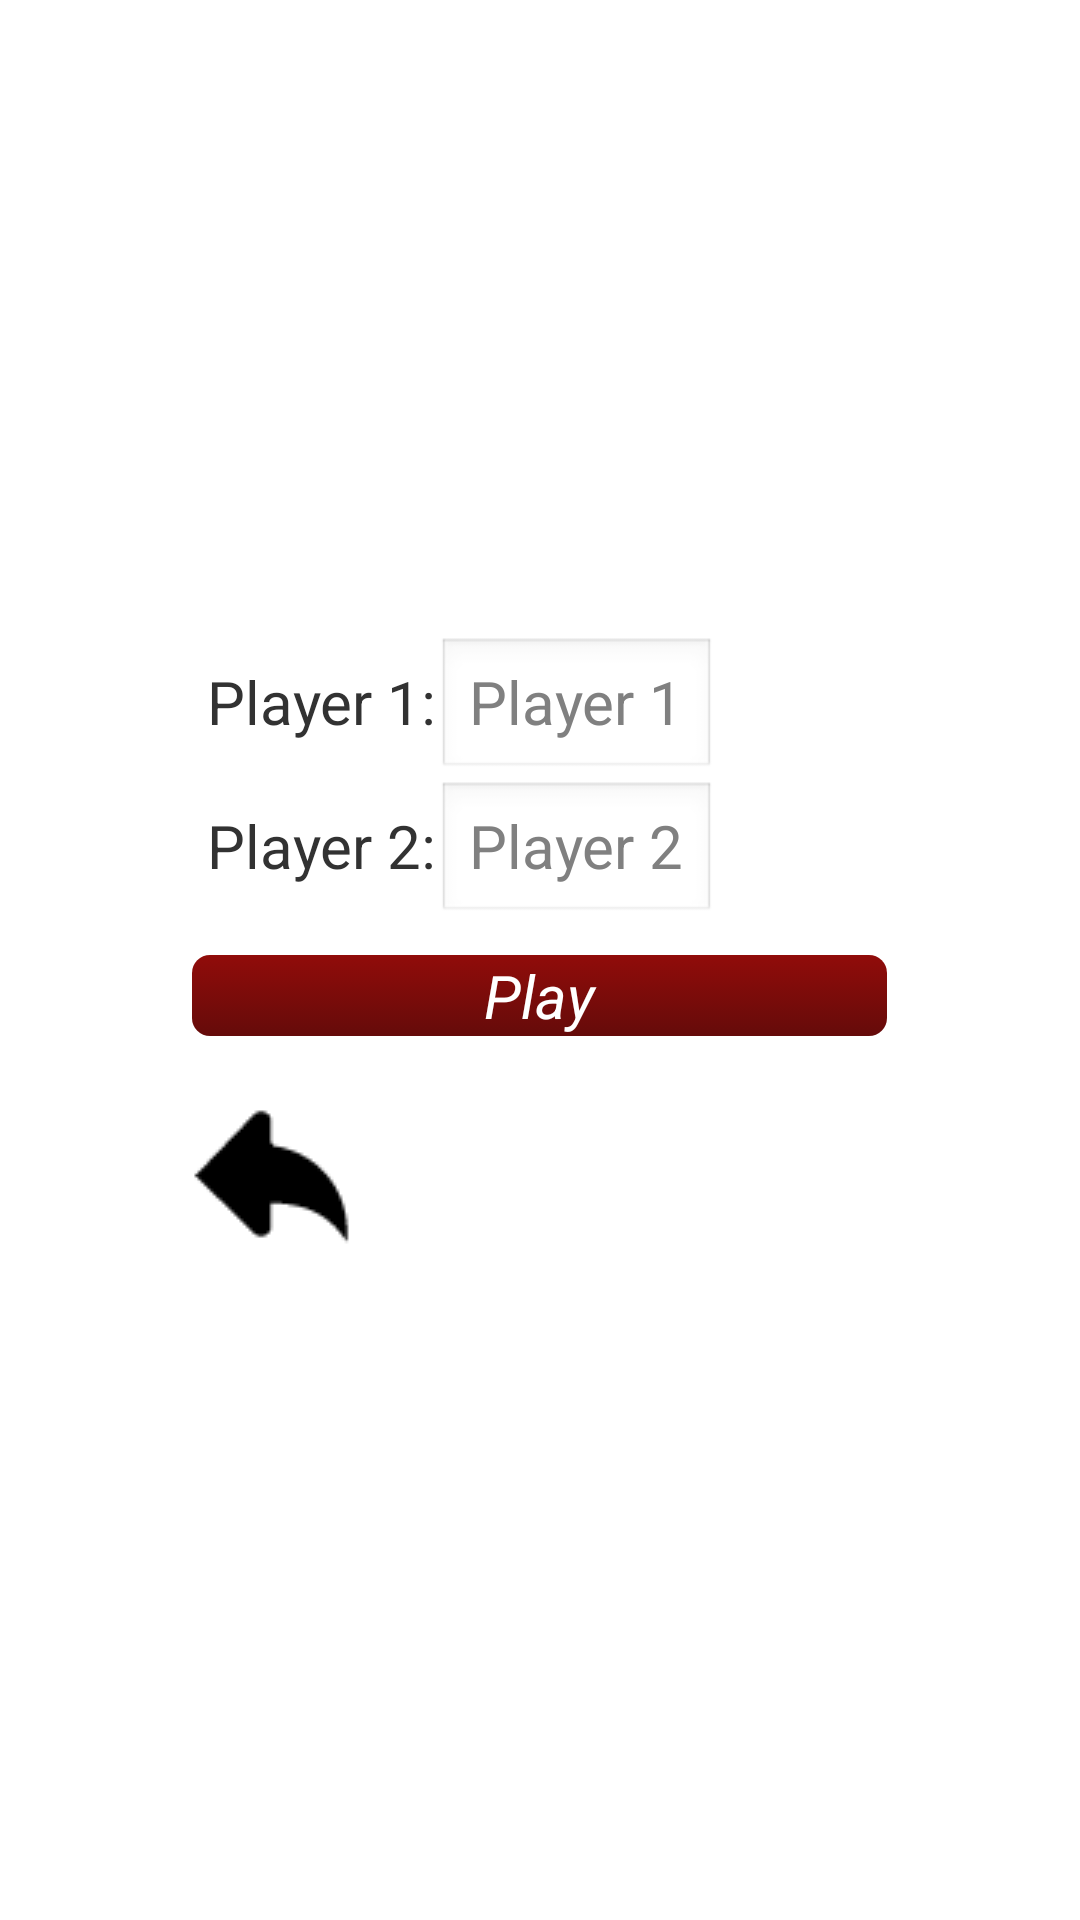

Named icons in this screenshot (1080*1920) and their bounding boxes, [left=x1, top=y1, right=x2, bottom=y2]:
backbutton: [left=194, top=1110, right=349, bottom=1242]
